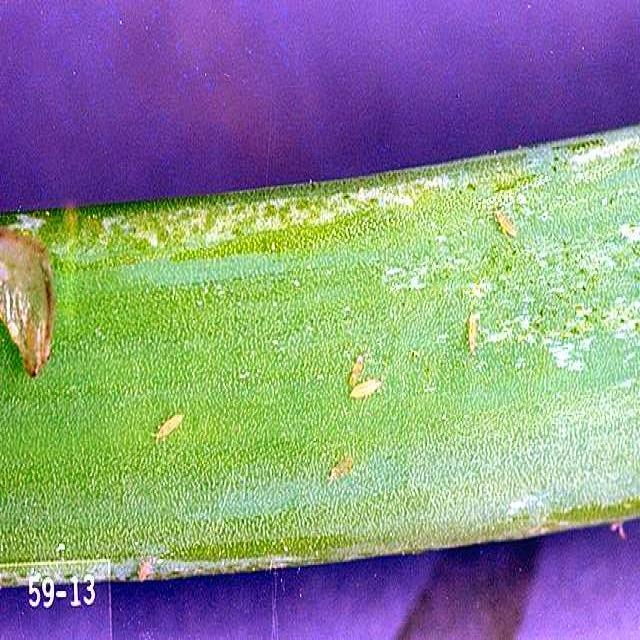Thrip-Larva-: (149, 402, 191, 447), (462, 298, 480, 360), (346, 374, 383, 404)
